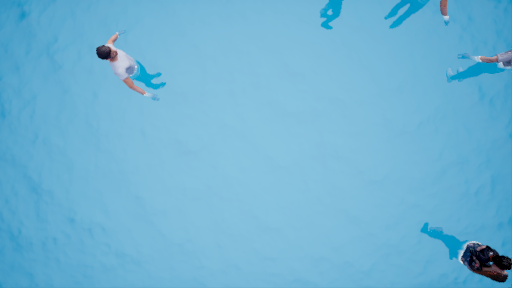person: (93, 30, 174, 108), (424, 220, 512, 280)
